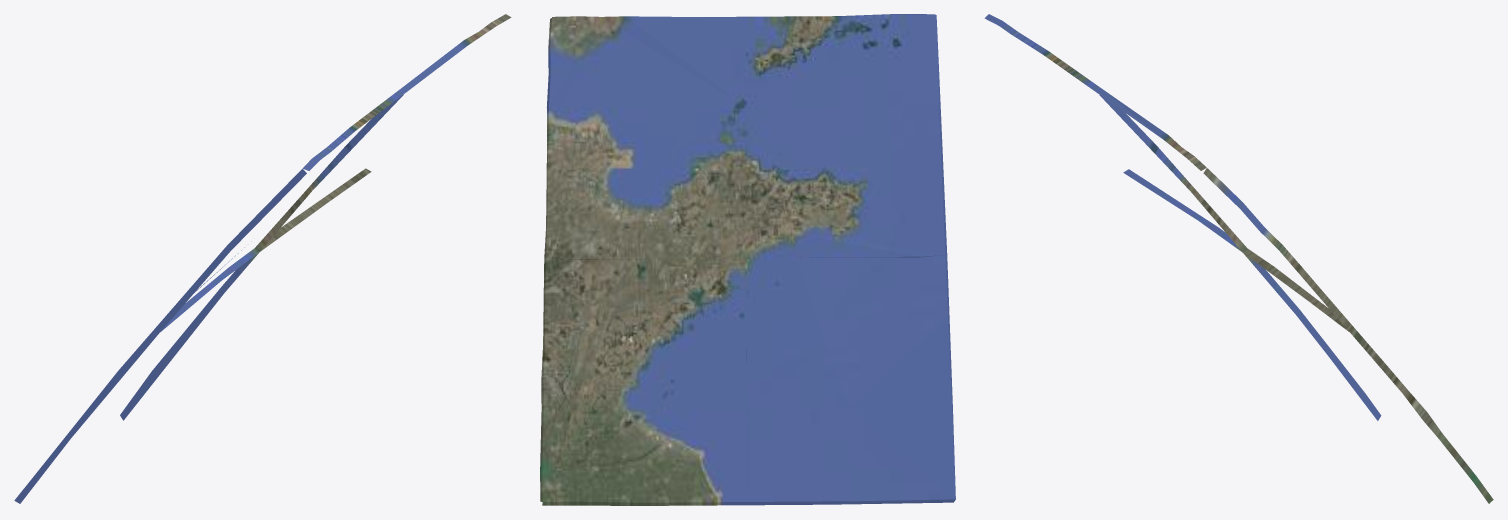
3 renders of one model, left to right at view 1: azimuth 30°, elevation 25°; view 2: azimuth 150°, elevation 25°; view 3: azimuth 270°, elevation 25°, orthographic. The views are drawn at different scales.
Size of the model in its own units: 630575 by 512821 by 585047.
Materials: 1 (1 with a texture image).
